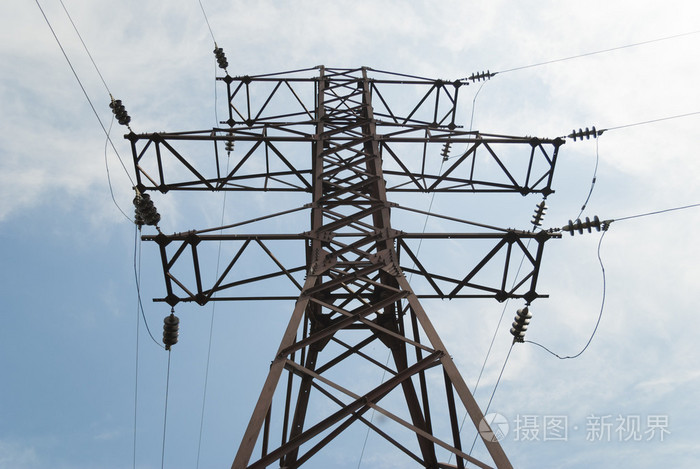insulator: (133, 192, 163, 225), (567, 215, 603, 236), (161, 314, 179, 347), (510, 309, 530, 338), (110, 99, 130, 125), (212, 47, 230, 70), (571, 126, 598, 141), (533, 202, 546, 229), (469, 70, 490, 81), (439, 142, 452, 157), (224, 131, 234, 150)
